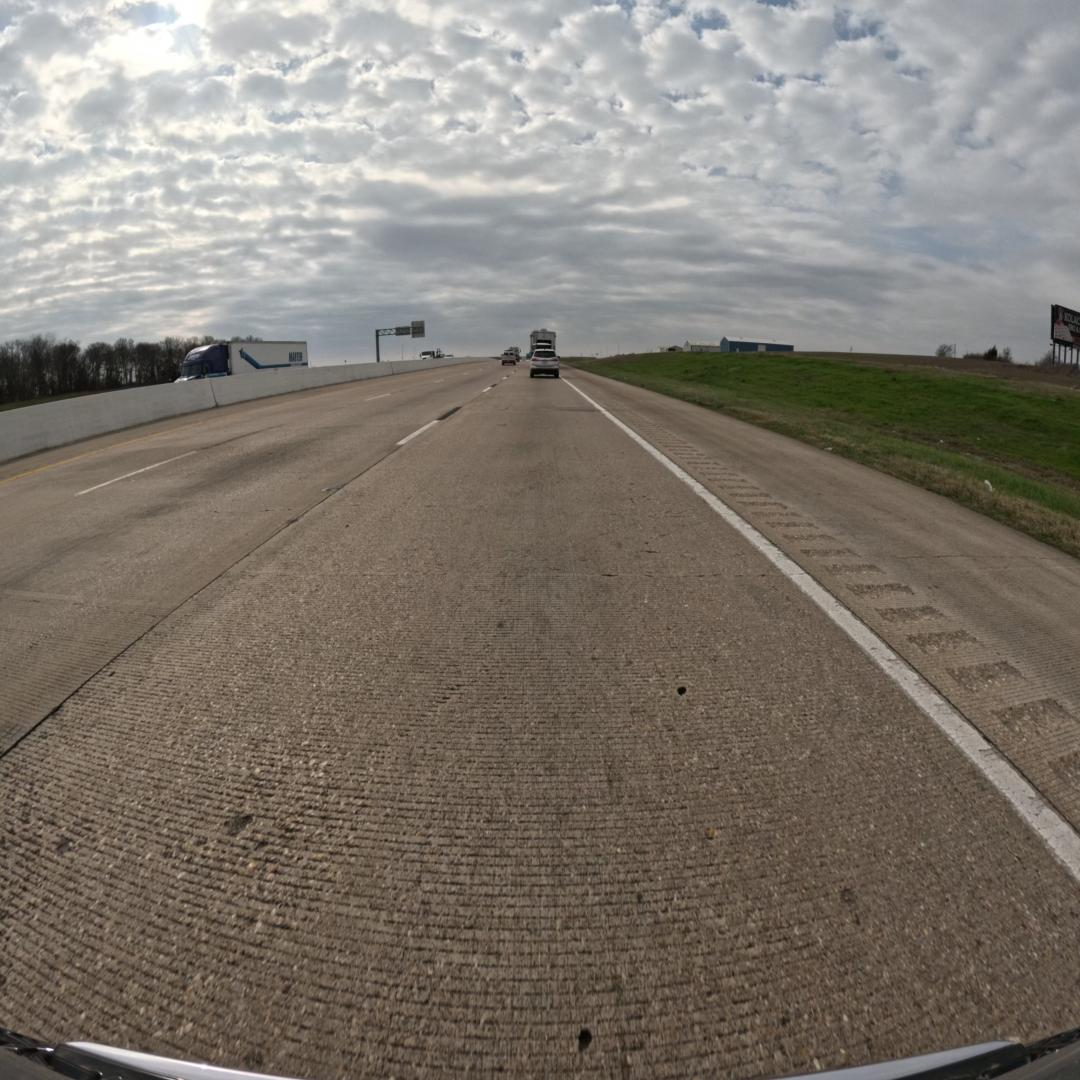lane0: (0, 375, 1080, 1077)
lane1: (0, 365, 519, 759)
